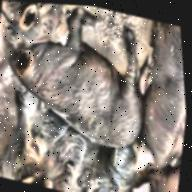boar: (0, 0, 164, 157)
